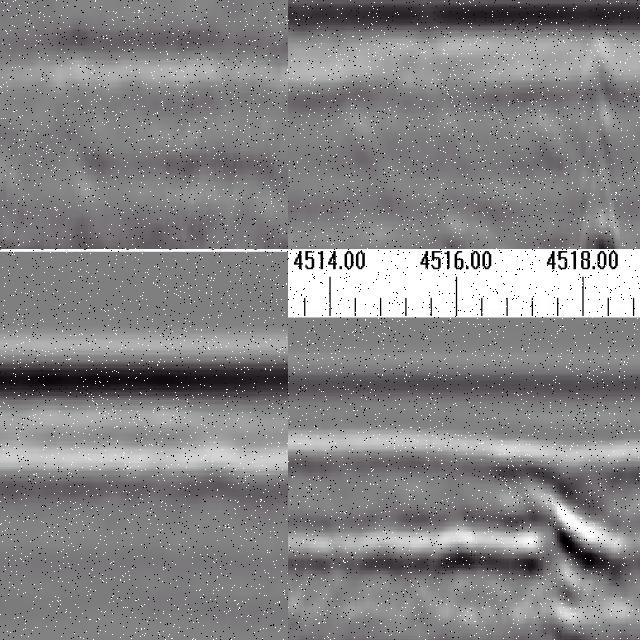crack: (426, 452, 640, 640), (578, 34, 624, 250)
